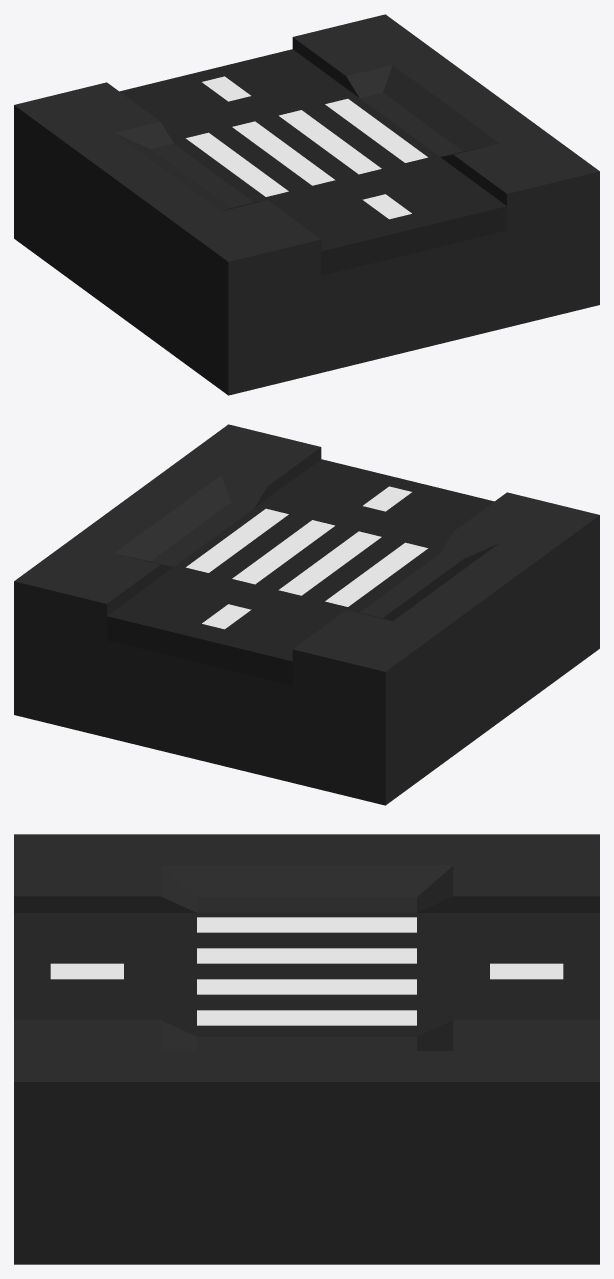
Rendered from city-zebra.obj.
3 views of the same model, one above another, from view 1: azimuth 30°, elevation 25°; view 2: azimuth 150°, elevation 25°; view 3: azimuth 270°, elevation 25° (orthographic). The views are drawn at different scales.
Visible parts, largest first — view 1: grass, road, plane; view 2: grass, road, plane; view 3: grass, road, plane.
Boxes of the visible parts, left/top/right/bottom form: grass: left=14, top=14, right=599, bottom=395; road: left=119, top=49, right=506, bottom=275; plane: left=186, top=76, right=427, bottom=219; grass: left=14, top=424, right=599, bottom=805; road: left=107, top=459, right=494, bottom=685; plane: left=186, top=486, right=427, bottom=629; grass: left=14, top=834, right=599, bottom=1264; road: left=14, top=913, right=599, bottom=1036; plane: left=50, top=917, right=563, bottom=1025.
Size of the model in its own units: 0.25 by 0.0859 by 0.25.
Materials: 1 (1 with a texture image).
